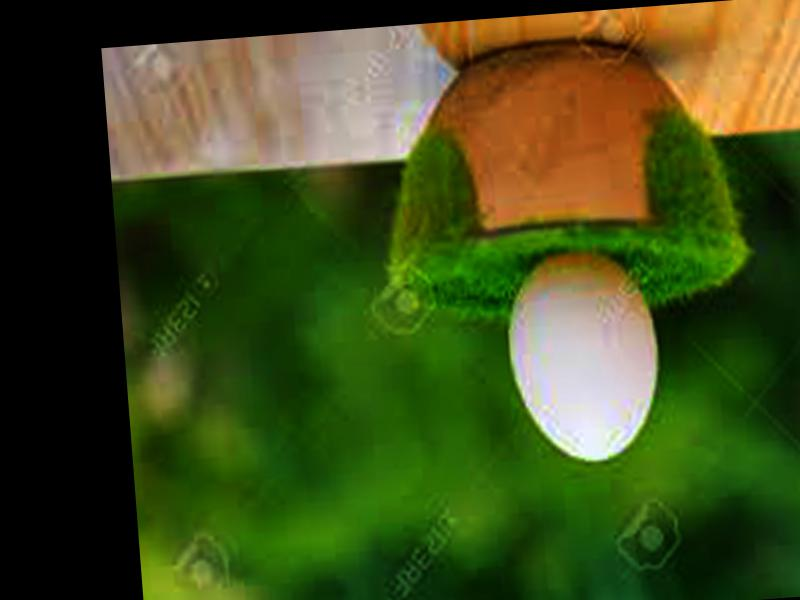Eggs: (498, 246, 662, 463)
